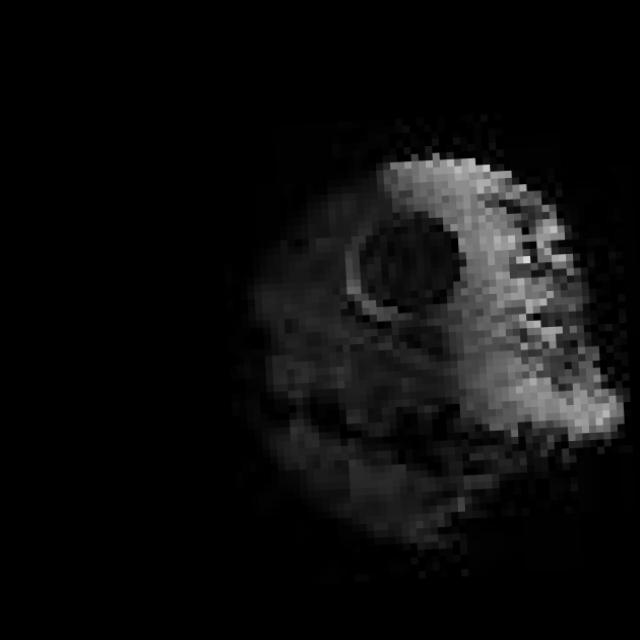Death Star: (218, 128, 638, 572)
